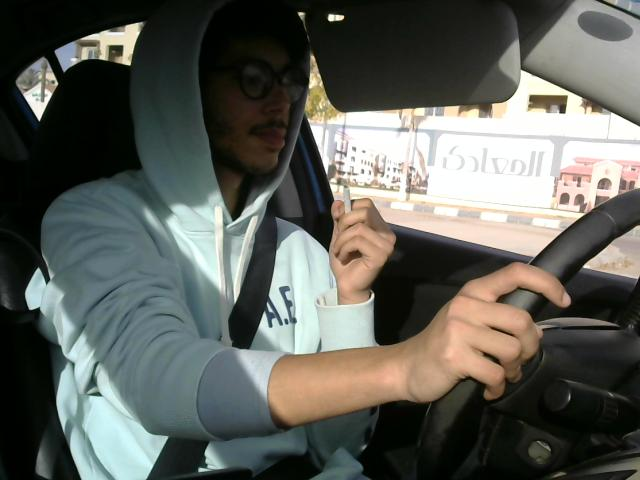Smoking: (340, 179, 358, 238)
